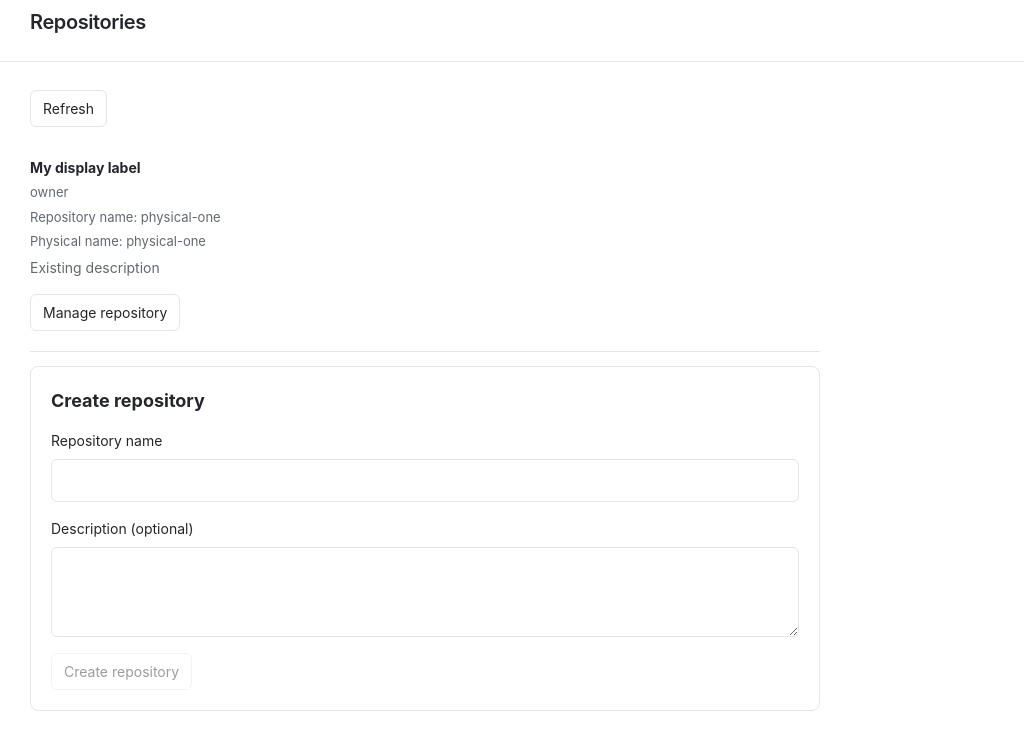
Test: creates with one canonical repository name and optional description on explicit action
Step 1. Type "Invalid_Name" into the field labelled "Repository name" → point(425, 480), box x1=51 y1=458 x2=799 y2=502
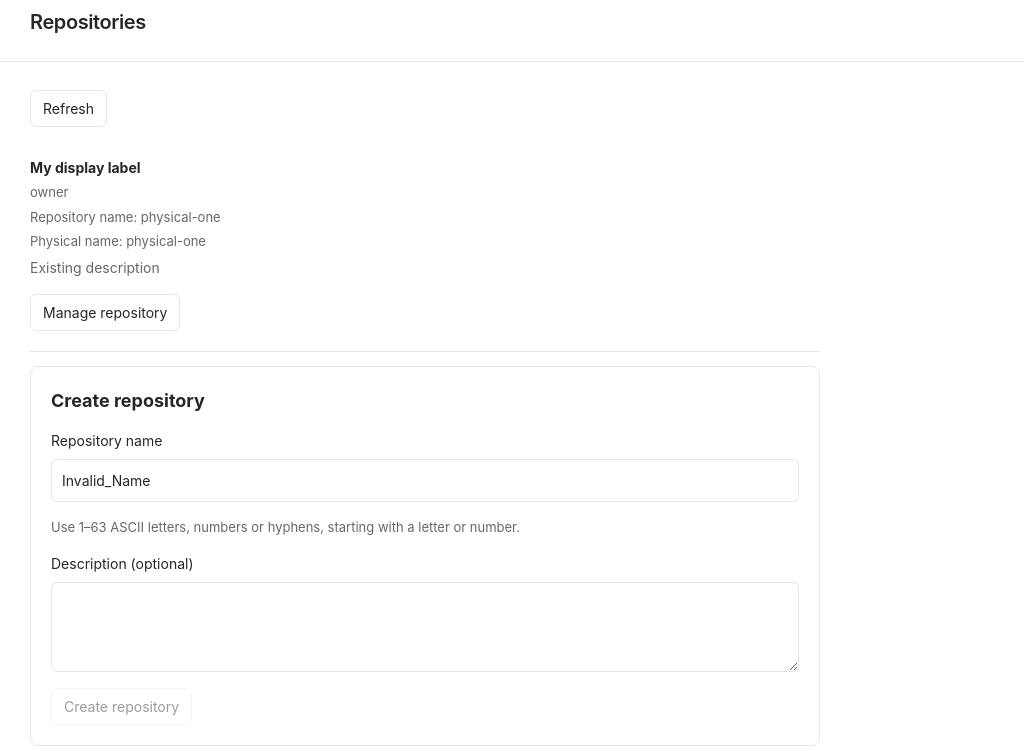
Check: the button "Create repository" is disabled, box x1=51 y1=688 x2=192 y2=725
Step 2. Replace the text in the field labelled "Repository name" with "new-physical" → point(425, 480), box x1=51 y1=458 x2=799 y2=502
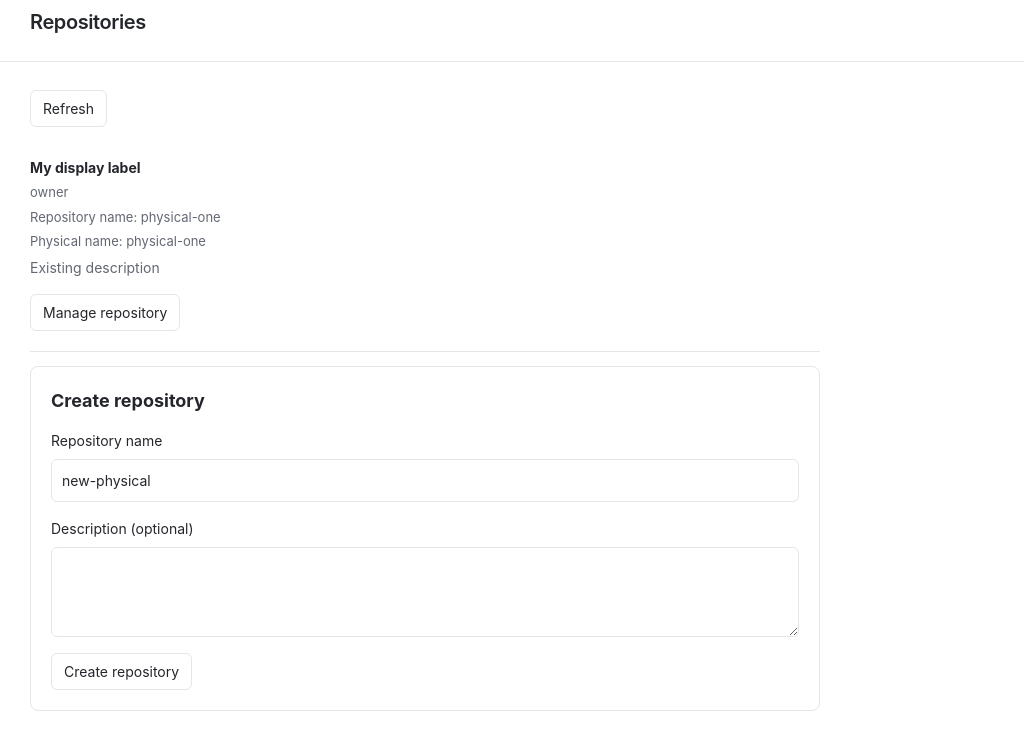
Step 3. Type " A description " into the text box labelled "Description (optional)" → point(425, 592), box x1=51 y1=546 x2=799 y2=636
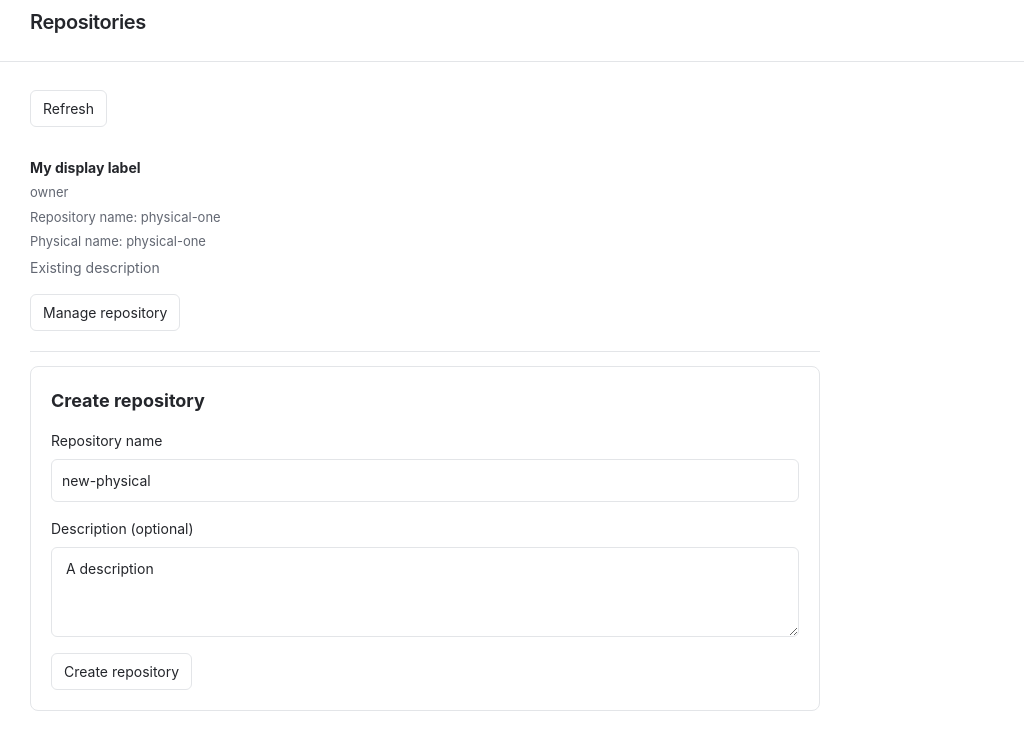
Check: the button "Create repository" is enabled
Step 4. Click the button "Create repository" → point(122, 671), box x1=51 y1=652 x2=192 y2=690
(page scrolled)
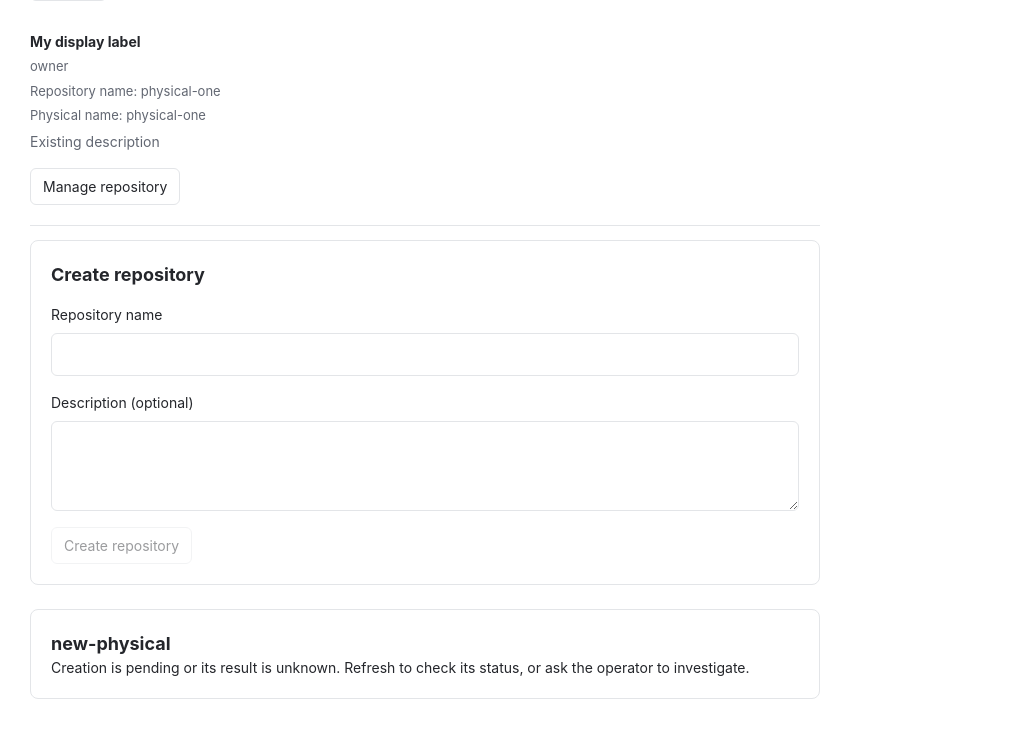
Check: the text "Creation is pending" is shown, box x1=51 y1=658 x2=750 y2=676
